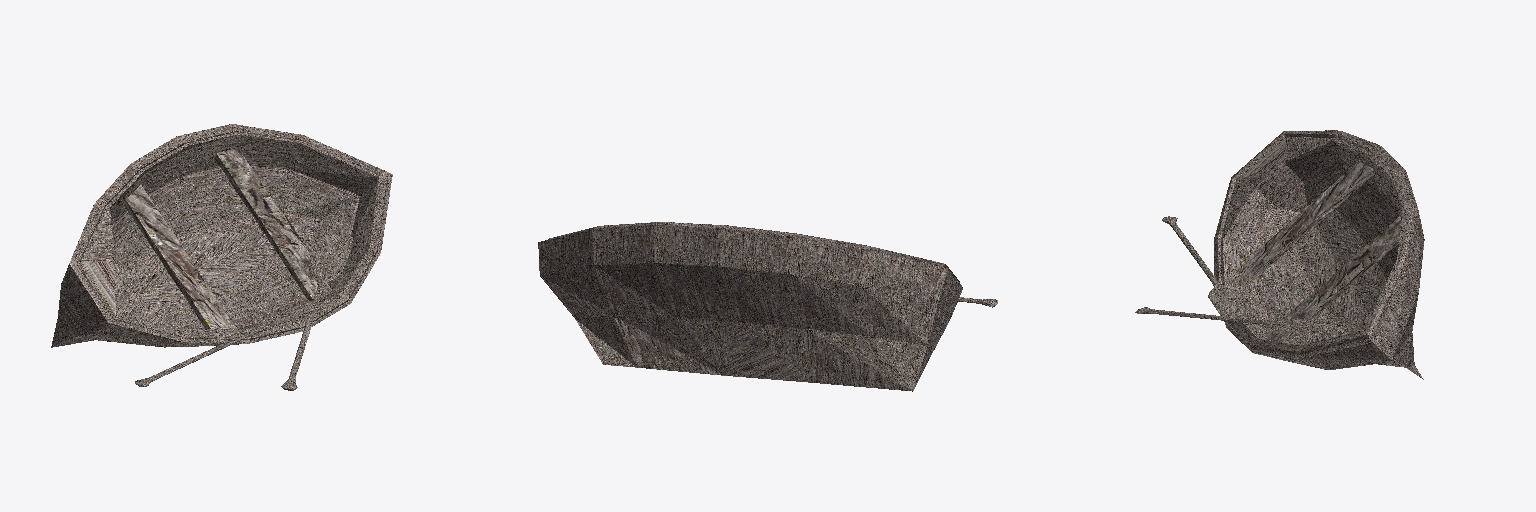
3 views of the same model, side by side, from view 1: azimuth 30°, elevation 25°; view 2: azimuth 150°, elevation 25°; view 3: azimuth 270°, elevation 25° (orthographic).
Parts seen in each view (by area): view 1: Boat_Cube.001, Oar_2_Plane.001, Oar_Plane; view 2: Boat_Cube.001; view 3: Boat_Cube.001, Oar_Plane, Oar_2_Plane.001.
Part boxes in pixels (x1,y1,x2,y2): Boat_Cube.001: (51,124,392,347); Oar_2_Plane.001: (281,233,352,390); Oar_Plane: (135,299,324,386); Boat_Cube.001: (538,222,962,391); Boat_Cube.001: (1214,130,1424,379); Oar_Plane: (1162,216,1255,319); Oar_2_Plane.001: (1135,307,1335,333).
Size of the model in its own units: 2.59 by 1.06 by 1.77.
1 materials, 1 textured.